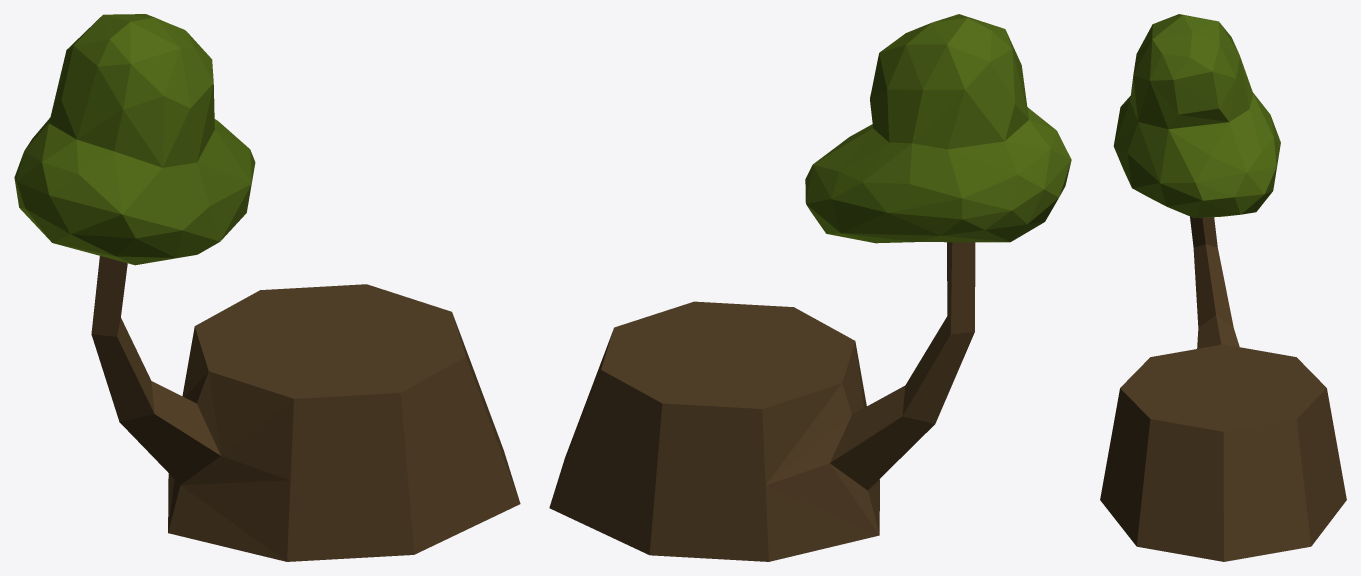
Rendered from TreesAndBushes_051.fbx.
3 renders of one model, left to right at view 1: azimuth 30°, elevation 25°; view 2: azimuth 150°, elevation 25°; view 3: azimuth 270°, elevation 25°, orthographic. The views are drawn at different scales.
Parts seen in each view (by area): view 1: TreesAndBushes_051; view 2: TreesAndBushes_051; view 3: TreesAndBushes_051.
Part boxes in pixels (bbox=[...]): TreesAndBushes_051: bbox=[14, 14, 520, 561]; TreesAndBushes_051: bbox=[549, 14, 1071, 561]; TreesAndBushes_051: bbox=[1100, 14, 1346, 561].
Bounding box in the file's own units: 63.01 × 65.61 × 36.39.
